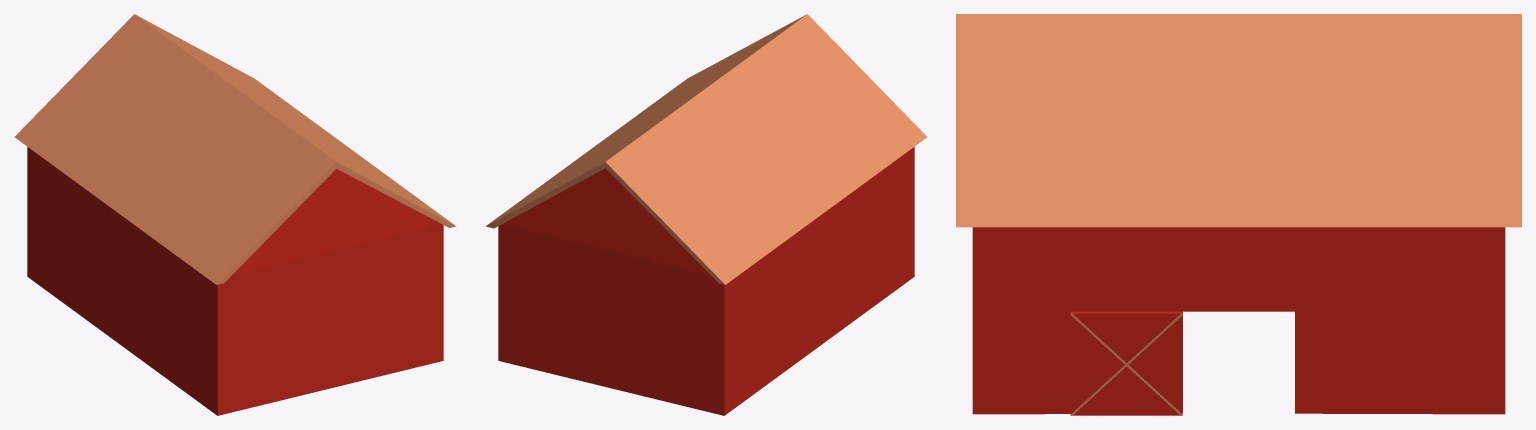
The model's file is Barn.fbx.
The picture shows the model from 3 angles, left to right: view 1: azimuth 30°, elevation 25°; view 2: azimuth 150°, elevation 25°; view 3: azimuth 270°, elevation 25°; orthographic projection. The views are drawn at different scales.
Parts seen in each view (by area): view 1: Barn; view 2: Barn; view 3: Barn.
Part boxes in pixels (<box>): Barn: <box>14,14,456,415</box>; Barn: <box>485,14,927,415</box>; Barn: <box>956,14,1521,415</box>.
Size of the model in its own units: 462 by 424 by 673.
